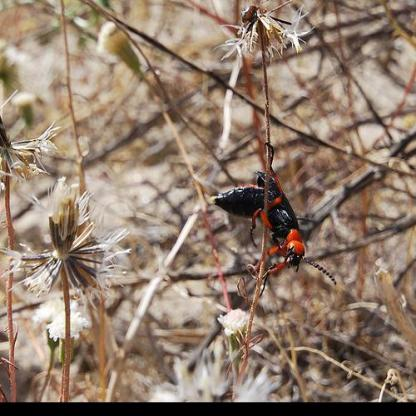beetle: (223, 156, 328, 276)
